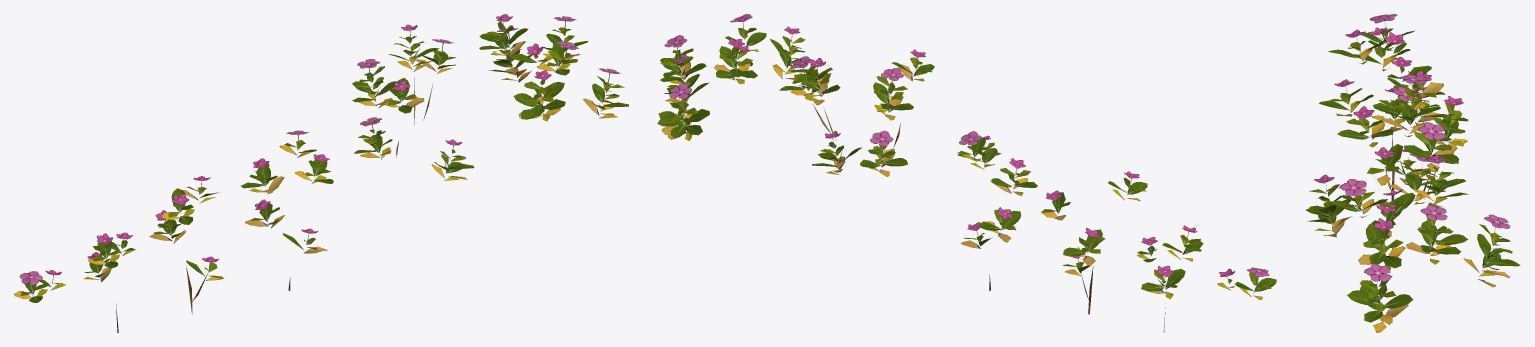
File: periwinkle_plant.glb
3 views of the same model, side by side, from view 1: azimuth 30°, elevation 25°; view 2: azimuth 150°, elevation 25°; view 3: azimuth 270°, elevation 25° (orthographic). The views are drawn at different scales.
Visible parts, largest first — view 1: periwinkle_plant_04_LOD0; view 2: periwinkle_plant_04_LOD0; view 3: periwinkle_plant_04_LOD0.
Boxes of the visible parts, bbox=[...] form: periwinkle_plant_04_LOD0: bbox=[14, 14, 628, 332]; periwinkle_plant_04_LOD0: bbox=[657, 14, 1276, 332]; periwinkle_plant_04_LOD0: bbox=[1305, 14, 1520, 332].
Size of the model in its own units: 1.24 by 0.4107 by 0.3207.
1 material, 1 textured.
